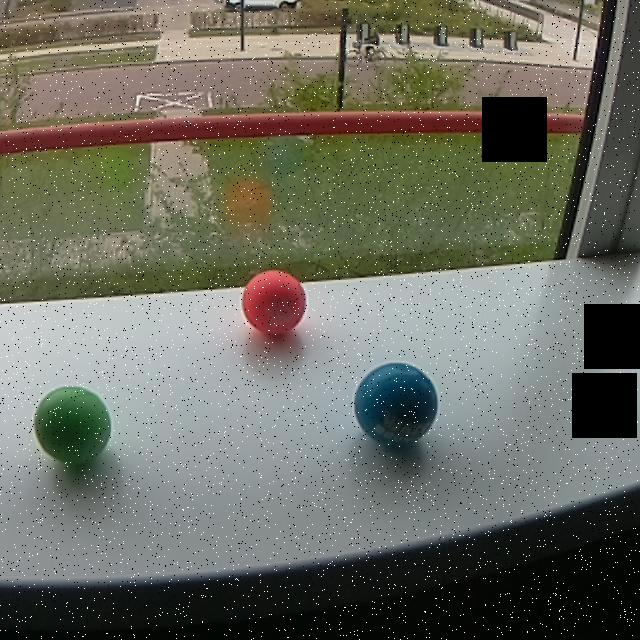ball: (352, 359, 441, 453), (30, 382, 115, 471), (238, 267, 308, 342)
